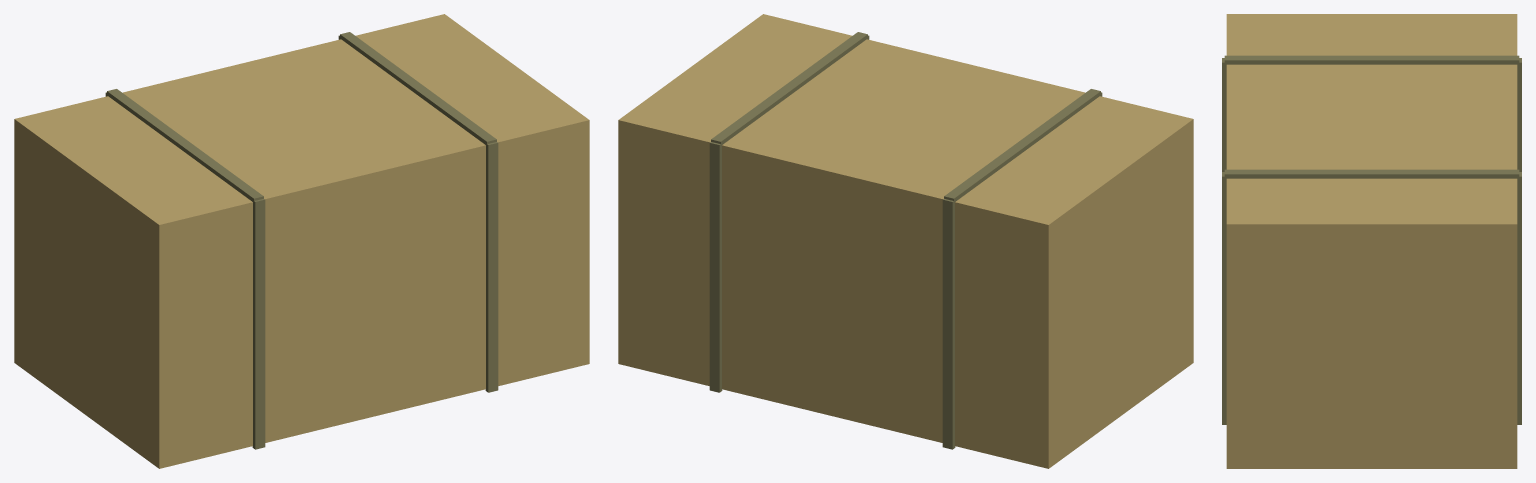
The model's file is hay-bale.glb.
The picture shows the model from 3 angles, left to right: view 1: azimuth 30°, elevation 25°; view 2: azimuth 150°, elevation 25°; view 3: azimuth 270°, elevation 25°; orthographic projection.
Visible parts, largest first — view 1: hay-bale; view 2: hay-bale; view 3: hay-bale.
Boxes of the visible parts, x1,y1,x2,y2 form: hay-bale: (14, 14, 589, 468); hay-bale: (618, 14, 1193, 468); hay-bale: (1222, 14, 1521, 468).
Size of the model in its own units: 2.4 by 1.33 by 1.45.
